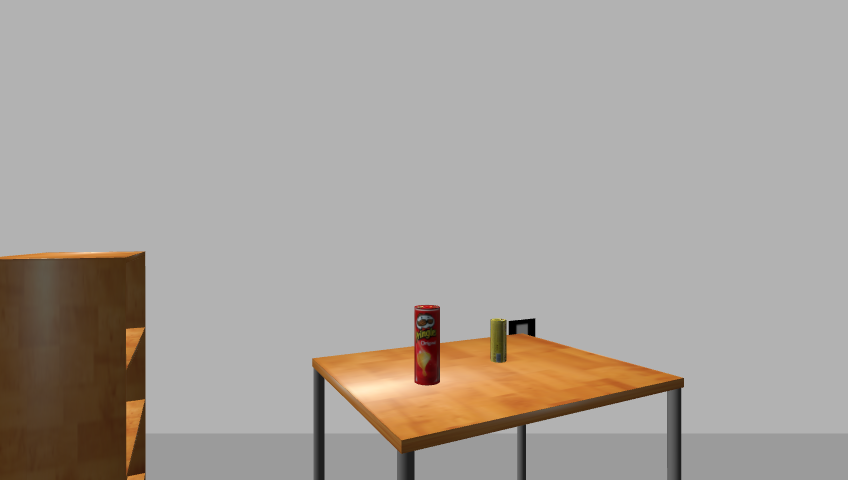aruco marker: (505, 317, 539, 341)
biscuits pack: (489, 318, 507, 364)
bookshelf: (0, 250, 153, 480)
dinner table: (302, 334, 692, 479)
pringles can: (412, 304, 443, 387)
